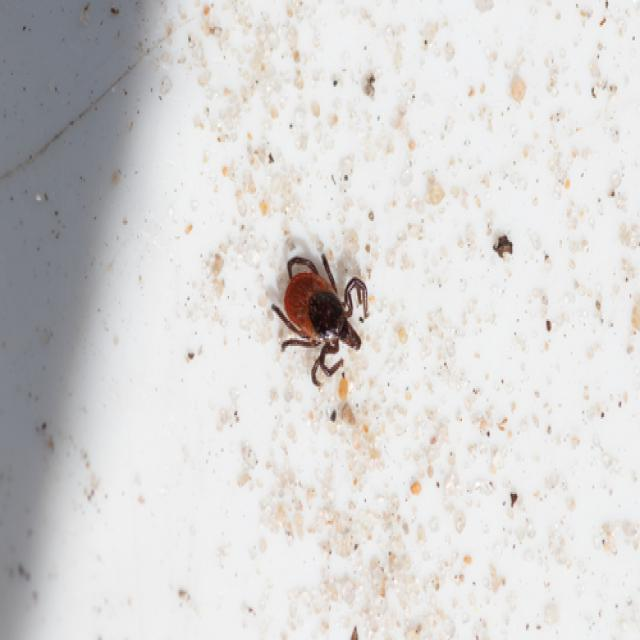Ixodes Ricinus-F: (273, 256, 369, 398)
